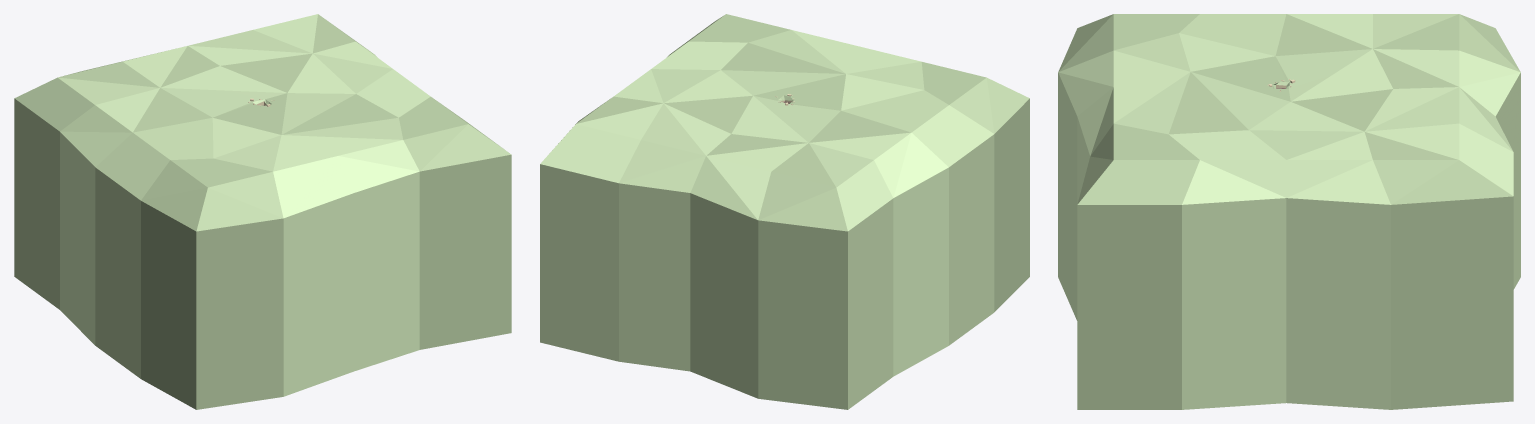
The model's file is Tomb.fbx.
3 views of the same model, side by side, from view 1: azimuth 30°, elevation 25°; view 2: azimuth 150°, elevation 25°; view 3: azimuth 270°, elevation 25° (orthographic). The views are drawn at different scales.
Parts seen in each view (by area): view 1: Tomb; view 2: Tomb; view 3: Tomb.
Boxes of the visible parts, x1,y1,x2,y2 form: Tomb: (14, 14, 511, 409); Tomb: (540, 14, 1029, 409); Tomb: (1058, 14, 1520, 409).
Bounding box in the file's own units: 62.42 × 37.8 × 66.93.
